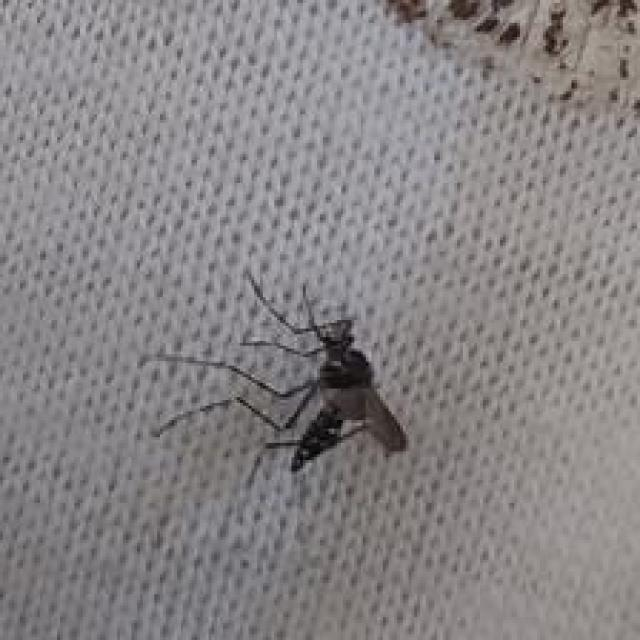Aedes albopictus: (139, 269, 410, 480)
